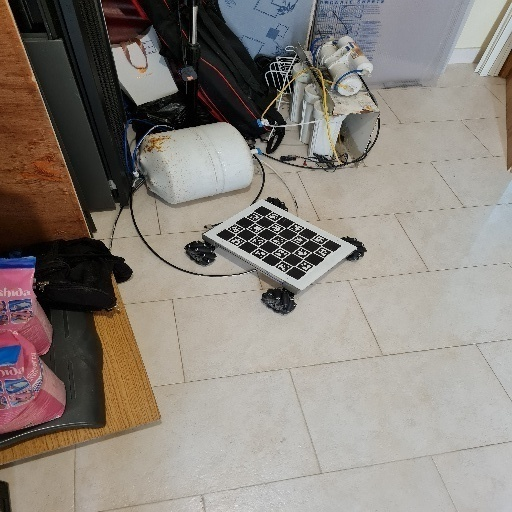Omniwheel: (184, 196, 368, 316)
